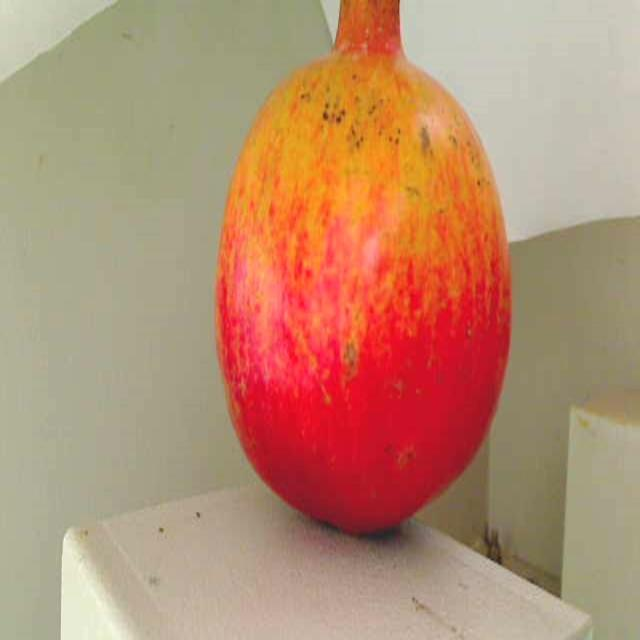pomegranate: (209, 0, 517, 539)
